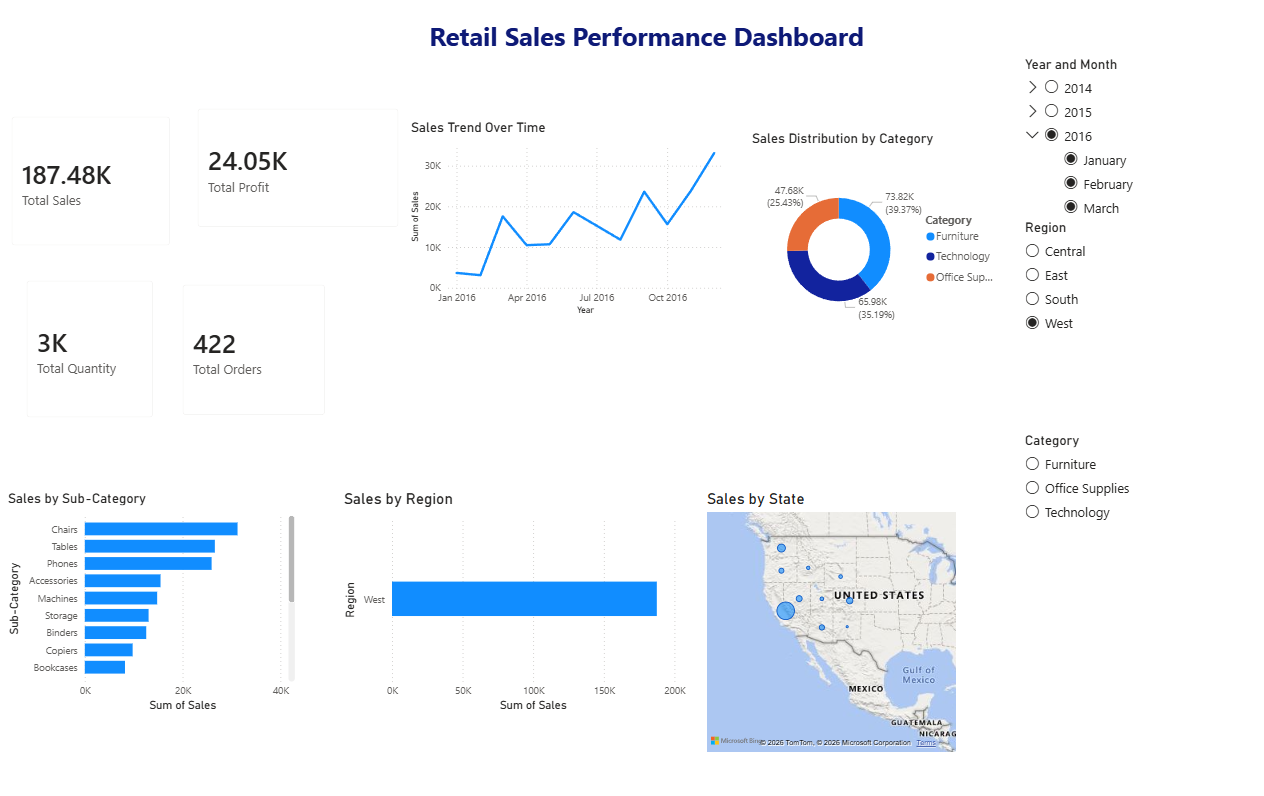

What the dashboard file says about the page in this screenshot:
{"tool":"powerbi","page":{"name":"Page 1","canvas":[1600,1000],"ordinal":0},"visuals":[{"type":"cardVisual","fields":{"Data":["Sample - Superstore.Total Sales"]},"box":[0,128.6,232.9,195.7],"z":0},{"type":"cardVisual","fields":{"Data":["Sample - Superstore.Total Orders"]},"box":[214,334,213,206],"z":1000},{"type":"cardVisual","fields":{"Data":["Sample - Superstore.Total Quantity"]},"box":[18.6,334.3,192.9,205.7],"z":2000},{"type":"cardVisual","fields":{"Data":["Sample - Superstore.Total Profit"]},"box":[214,129,213,196],"z":3000},{"type":"lineChart","title":"Sales Trend Over Time","fields":{"Y":["Sum(Sample - Superstore.Sales)"],"Category":["Sample - Superstore.Order Date.Variation.Date Hierarchy.Year","Sample - Superstore.Order Date.Variation.Date Hierarchy.Month"]},"box":[511,149,413,250],"z":4000},{"type":"barChart","title":"Sales by Region","fields":{"Category":["Sample - Superstore.Region"],"Y":["Sum(Sample - Superstore.Sales)"]},"box":[427.1,612.9,437.1,281.4],"z":5000},{"type":"donutChart","title":"Sales Distribution by Category","fields":{"Category":["Sample - Superstore.Category"],"Y":["Sum(Sample - Superstore.Sales)"]},"box":[938,162,321,280],"z":6000},{"type":"map","title":"Sales by State","fields":{"Category":["Sample - Superstore.State"],"Size":["Sum(Sample - Superstore.Sales)"]},"box":[881.4,612.9,321.4,332.9],"z":7000},{"type":"barChart","title":"Sales by Sub-Category","fields":{"Category":["Sample - Superstore.Sub-Category"],"Y":["Sum(Sample - Superstore.Sales)"]},"box":[7.1,612.9,368.6,281.4],"z":8000},{"type":"listSlicer","fields":{"Values":["Sample - Superstore.Order Date.Variation.Date Hierarchy.Year","Sample - Superstore.Order Date.Variation.Date Hierarchy.Month"]},"box":[1278.6,70,321.4,204.3],"z":9000},{"type":"listSlicer","fields":{"Values":["Sample - Superstore.Region"]},"box":[1278.6,274.3,321.4,280],"z":10000},{"type":"listSlicer","fields":{"Values":["Sample - Superstore.Category"]},"box":[1278.8,500,321.2,280],"z":11000},{"type":"textbox","box":[500,0,621.4,108.6],"z":12000}]}

Visuals, with their boxes in screenshot pixels (x1, y1, x2, y2), scaled from the page's 1600x1000 canvas onto the 1264x796 screenshot:
cardVisual - Sample - Superstore.Total Sales: pyautogui.locateOnScreen(0, 102, 184, 258)
cardVisual - Sample - Superstore.Total Orders: pyautogui.locateOnScreen(169, 266, 337, 430)
cardVisual - Sample - Superstore.Total Quantity: pyautogui.locateOnScreen(15, 266, 167, 430)
cardVisual - Sample - Superstore.Total Profit: pyautogui.locateOnScreen(169, 103, 337, 259)
"Sales Trend Over Time" lineChart: pyautogui.locateOnScreen(404, 119, 730, 318)
"Sales by Region" barChart: pyautogui.locateOnScreen(337, 488, 683, 712)
"Sales Distribution by Category" donutChart: pyautogui.locateOnScreen(741, 129, 995, 352)
"Sales by State" map: pyautogui.locateOnScreen(696, 488, 950, 753)
"Sales by Sub-Category" barChart: pyautogui.locateOnScreen(6, 488, 297, 712)
listSlicer - Sample - Superstore.Order Date.Variation.Date Hierarchy.Year x Sample - Superstore.Order Date.Variation.Date Hierarchy.Month: pyautogui.locateOnScreen(1010, 56, 1263, 218)
listSlicer - Sample - Superstore.Region: pyautogui.locateOnScreen(1010, 218, 1263, 441)
listSlicer - Sample - Superstore.Category: pyautogui.locateOnScreen(1010, 398, 1263, 621)
textbox: pyautogui.locateOnScreen(395, 0, 886, 86)
